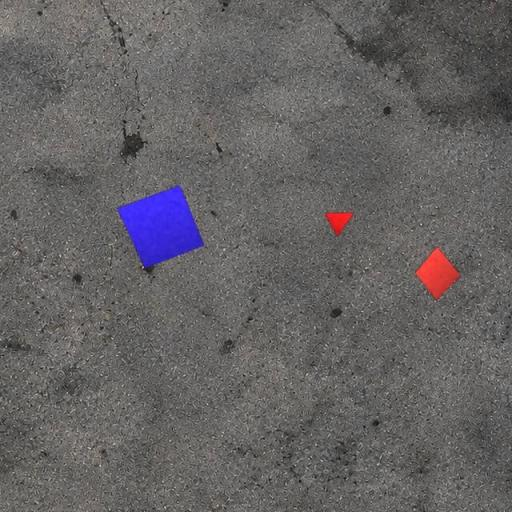BLUE_SQUARE: (116, 184, 205, 269)
RED_SQUARE: (414, 246, 462, 300)
